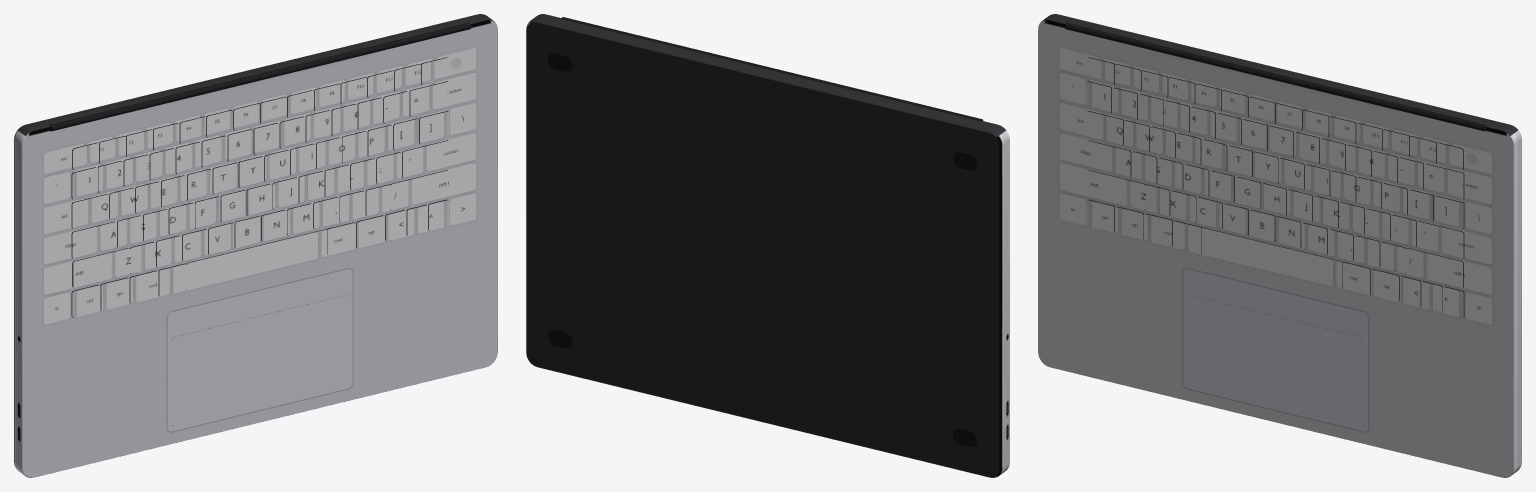
Rendered from body.obj.
3 renders of one model, left to right at view 1: azimuth 30°, elevation 25°; view 2: azimuth 150°, elevation 25°; view 3: azimuth 330°, elevation 25°, orthographic.
Parts seen in each view (by area): view 1: deck, keys.001, keys, base, hinge, base.002; view 2: base.003, base, base.002, base.004, hinge; view 3: deck, keys.001, keys, base, hinge, base.001.
Boxes of the visible parts, x1=… form: deck: x1=22, y1=20, x2=497, y2=477; keys.001: x1=72, y1=58, x2=448, y2=317; keys: x1=71, y1=57, x2=448, y2=317; base: x1=18, y1=14, x2=494, y2=477; hinge: x1=49, y1=22, x2=471, y2=131; base.002: x1=14, y1=130, x2=25, y2=475; base.003: x1=526, y1=22, x2=999, y2=477; base: x1=529, y1=14, x2=1006, y2=477; base.002: x1=996, y1=130, x2=1009, y2=475; base.004: x1=548, y1=53, x2=977, y2=446; hinge: x1=561, y1=17, x2=983, y2=121; deck: x1=1038, y1=20, x2=1513, y2=477; keys.001: x1=1087, y1=58, x2=1463, y2=317; keys: x1=1087, y1=57, x2=1464, y2=317; base: x1=1041, y1=14, x2=1517, y2=477; hinge: x1=1064, y1=22, x2=1486, y2=131; base.001: x1=1510, y1=130, x2=1521, y2=475.
Bounding box in the file's own units: 356 × 249 × 14.65.
